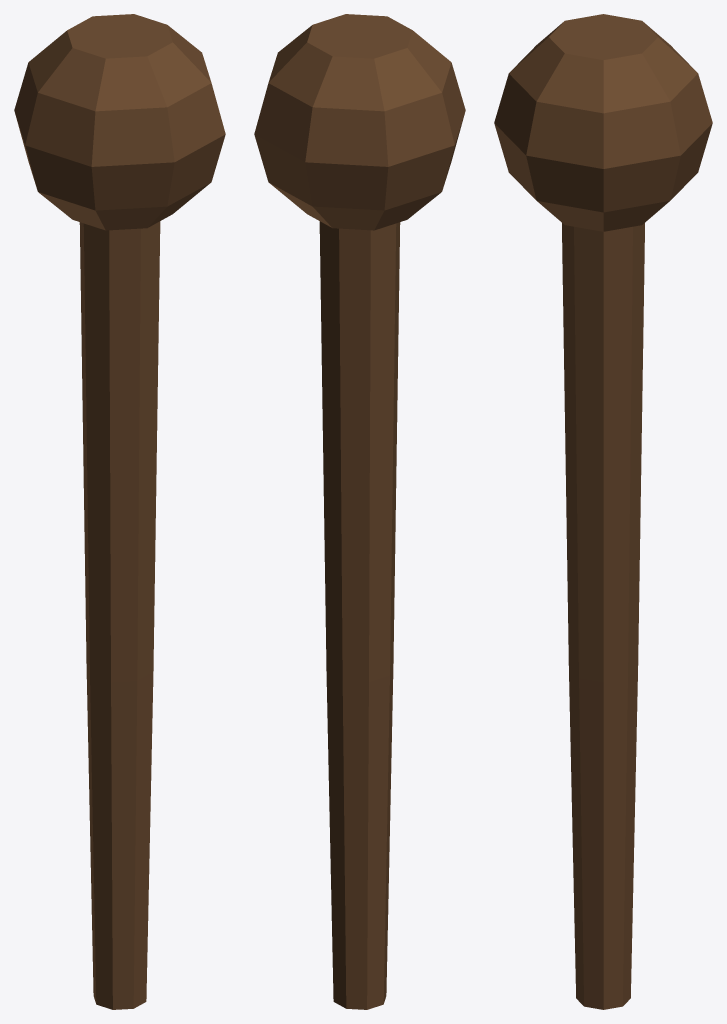
The model's file is g-club-knobbed.glb.
3 renders of one model, left to right at view 1: azimuth 30°, elevation 25°; view 2: azimuth 150°, elevation 25°; view 3: azimuth 270°, elevation 25°, orthographic.
Parts seen in each view (by area): view 1: g-club-knobbed; view 2: g-club-knobbed; view 3: g-club-knobbed.
Part boxes in pixels (x1=…): g-club-knobbed: x1=14, y1=14, x2=225, y2=1009; g-club-knobbed: x1=254, y1=14, x2=465, y2=1009; g-club-knobbed: x1=494, y1=14, x2=712, y2=1009.
Bounding box in the file's own units: 0.12 × 0.582 × 0.12.
